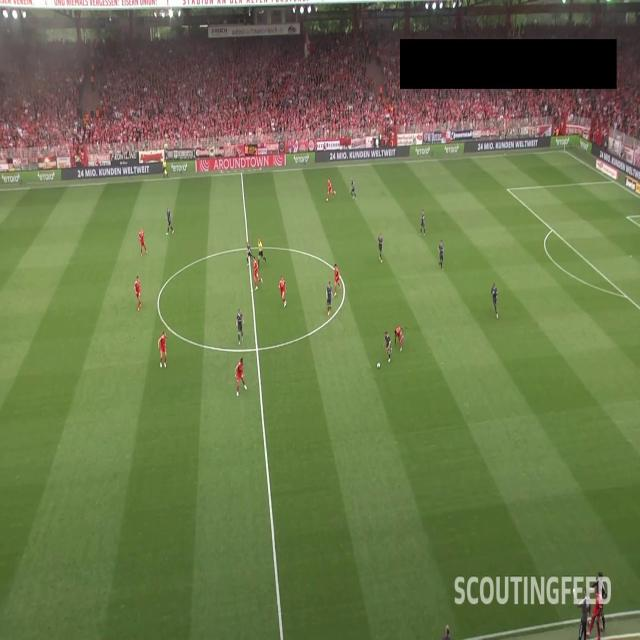ball: (376, 363, 381, 369)
team1: (586, 585, 602, 640), (490, 282, 500, 318), (382, 331, 393, 362), (235, 309, 244, 343), (166, 207, 175, 237), (245, 239, 254, 267), (326, 280, 333, 315), (377, 234, 384, 264), (438, 240, 444, 270), (350, 178, 358, 200), (421, 210, 427, 236)
team2: (235, 358, 247, 395), (158, 331, 169, 368), (393, 326, 407, 351), (253, 258, 263, 292), (134, 276, 142, 311), (325, 177, 336, 202), (334, 264, 342, 298), (279, 276, 287, 308), (139, 228, 148, 256)
